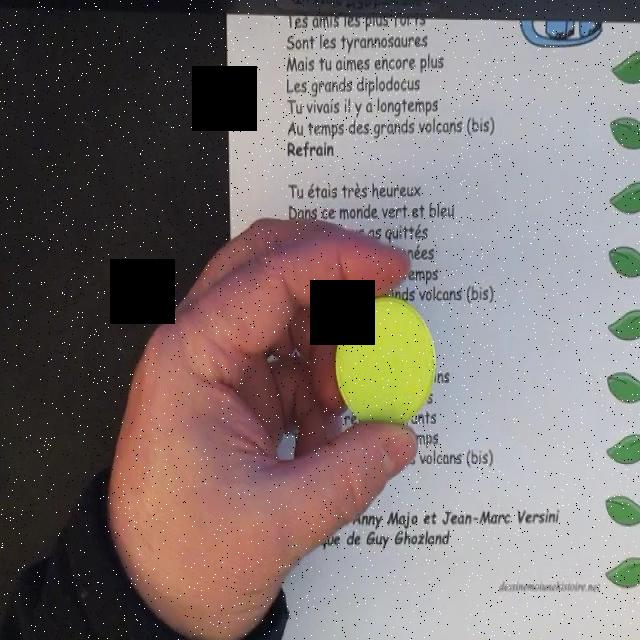round: (334, 296, 436, 430)
